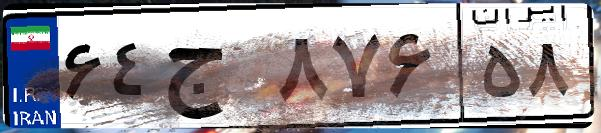4: (110, 28, 158, 98)
5: (475, 38, 525, 113)
6: (385, 28, 445, 110), (57, 26, 110, 100)
7: (330, 28, 385, 110)
8: (270, 28, 330, 110), (525, 38, 570, 115)
ج: (158, 20, 270, 120)
